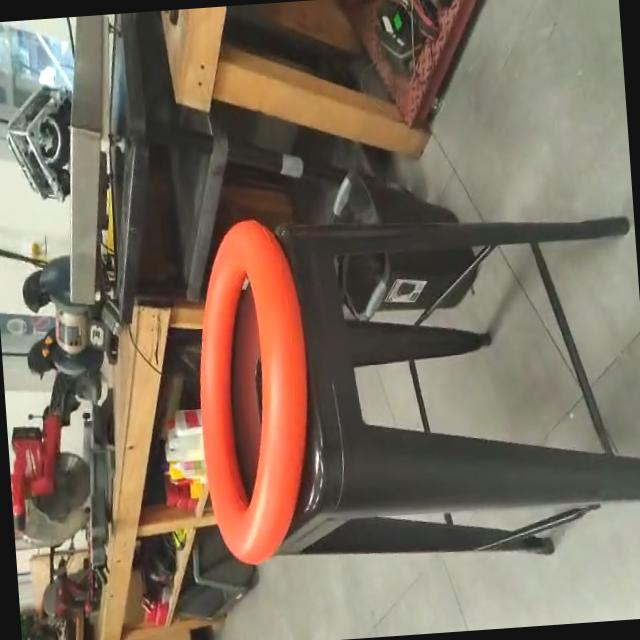note: (182, 210, 322, 570)
